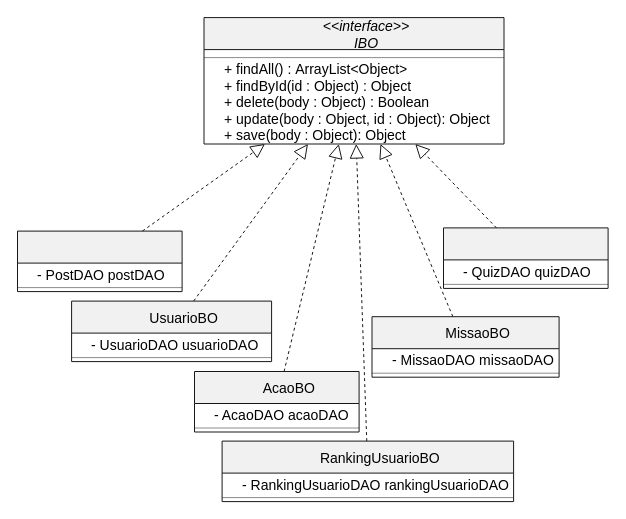
Some shapes in this 626 by 519 pixel diagram are drawn without their labels. Each missing label, with the box of its shape:
PostBO: (16, 230, 182, 292)
QuizBO: (442, 227, 608, 288)
